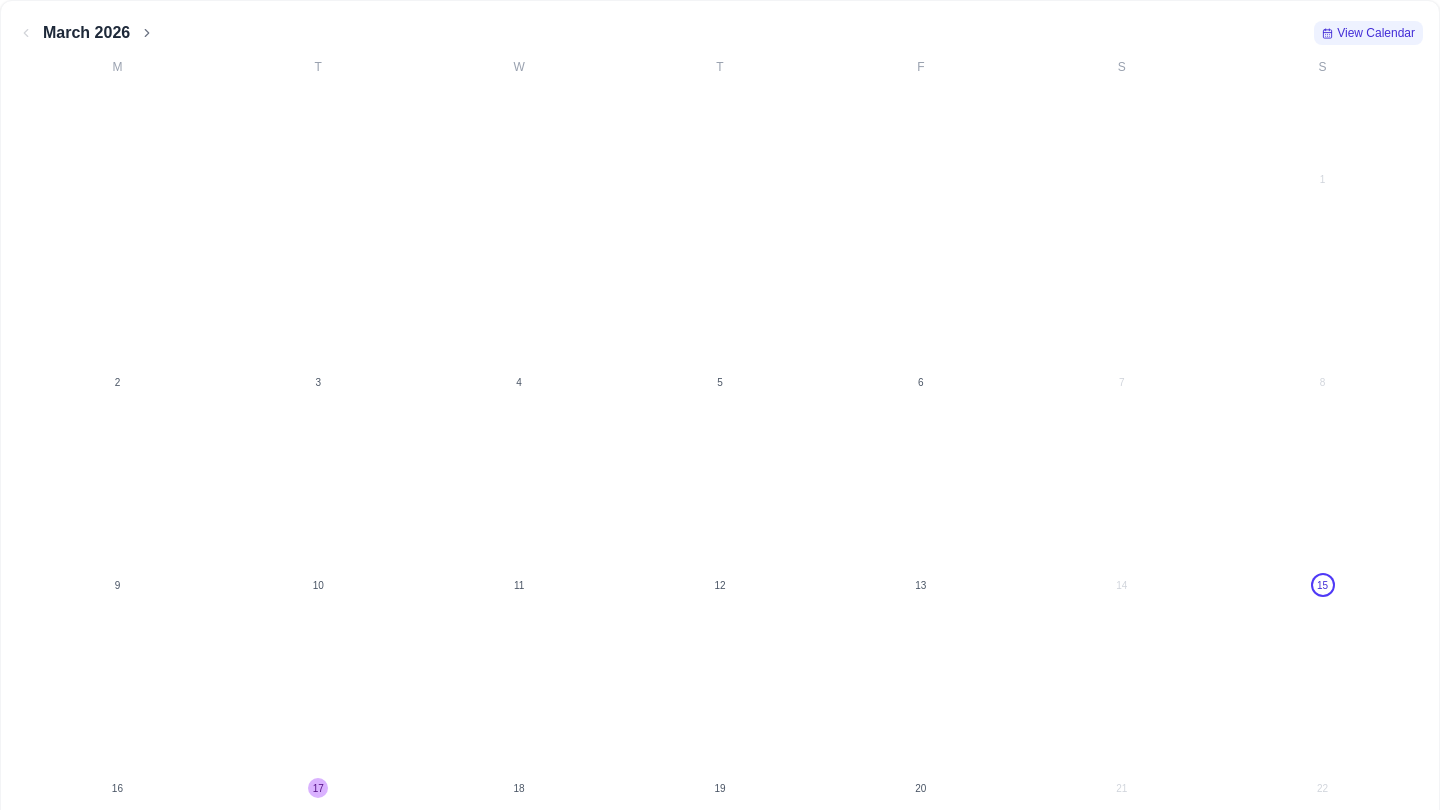
Scenario: MiniCalendar — popover matches CalendarView style › bank holiday popover shows a 'Bank Holiday' badge
Click the text with test id "bank-holiday-dot". click: (318,788)
box: left=308, top=778, right=328, bottom=798
(page scrolled)
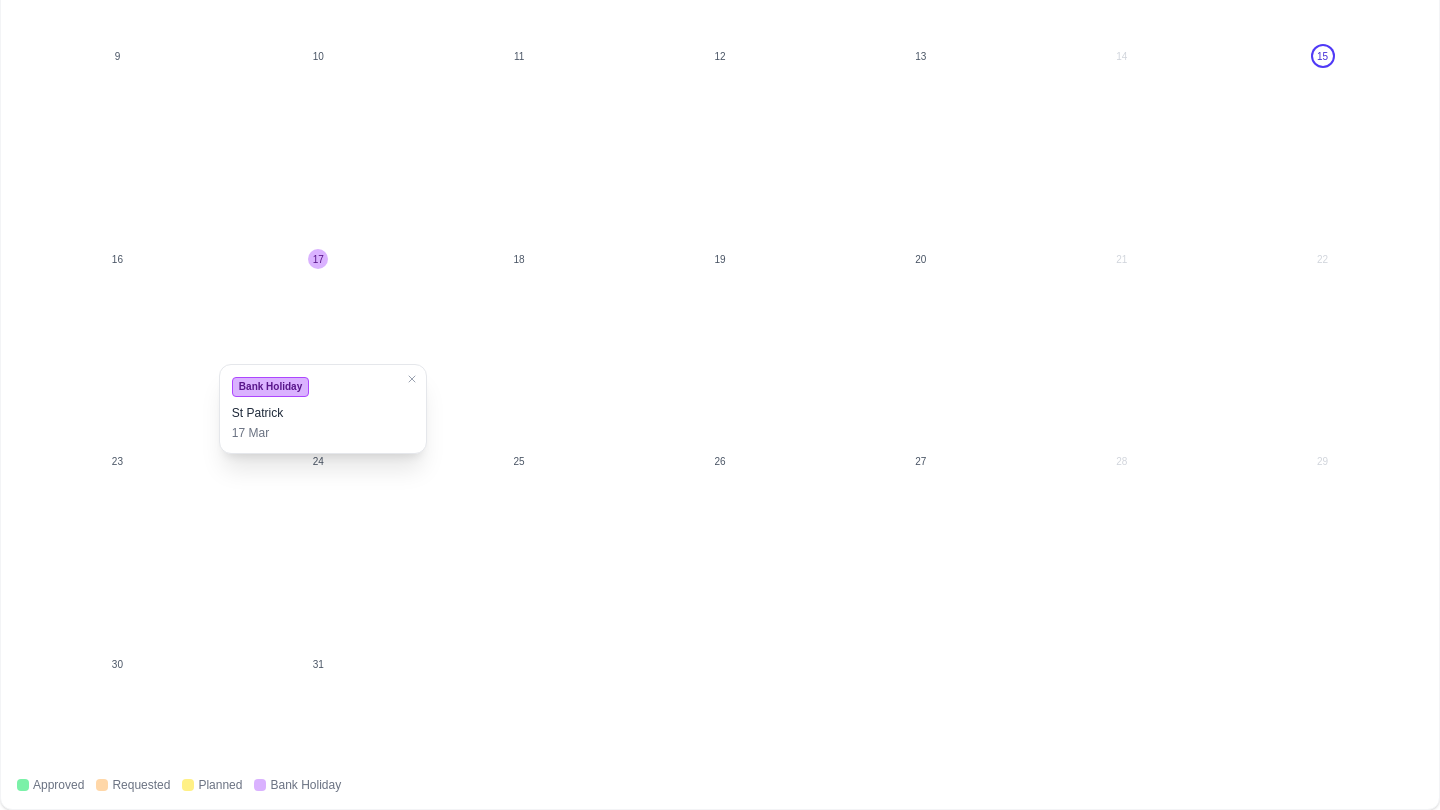
Now the tooltip shows "Bank Holiday", box left=239, top=381, right=302, bottom=392
Now the tooltip shows "St Patrick", box left=232, top=406, right=283, bottom=420
